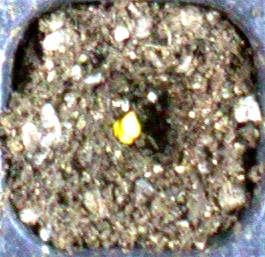pepper seed: (44, 45, 180, 190), (50, 42, 191, 180)
